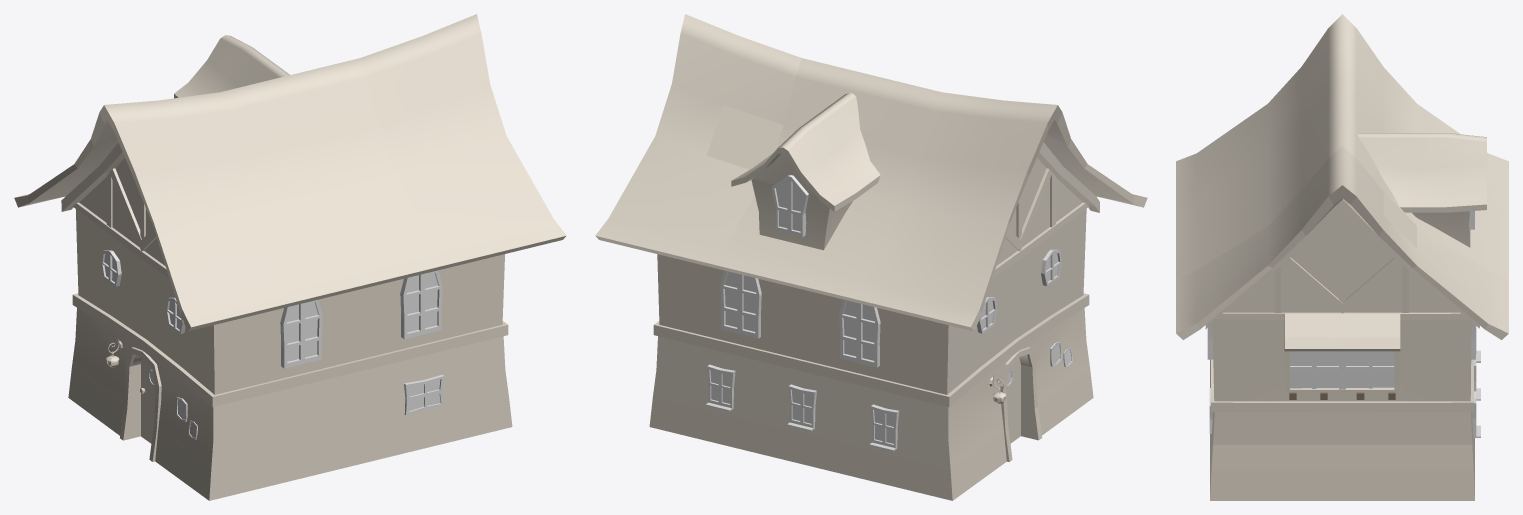
The model's file is House 4.fbx.
The picture shows the model from 3 angles, left to right: view 1: azimuth 30°, elevation 25°; view 2: azimuth 150°, elevation 25°; view 3: azimuth 270°, elevation 25°; orthographic projection. The views are drawn at different scales.
Visible parts, largest first — view 1: polySurface10; view 2: polySurface10; view 3: polySurface10.
Part boxes in pixels (bbox=[...]): polySurface10: bbox=[14, 14, 566, 500]; polySurface10: bbox=[595, 14, 1147, 500]; polySurface10: bbox=[1176, 14, 1508, 500].
Size of the model in its own units: 785 by 685 by 622.
